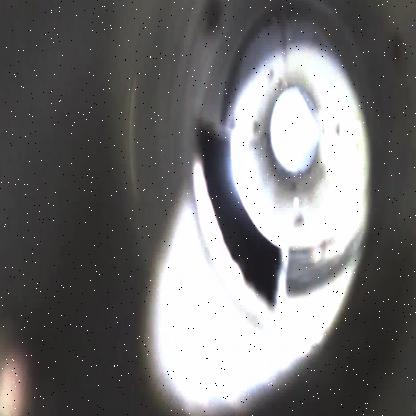Crack2: (187, 119, 286, 316)
